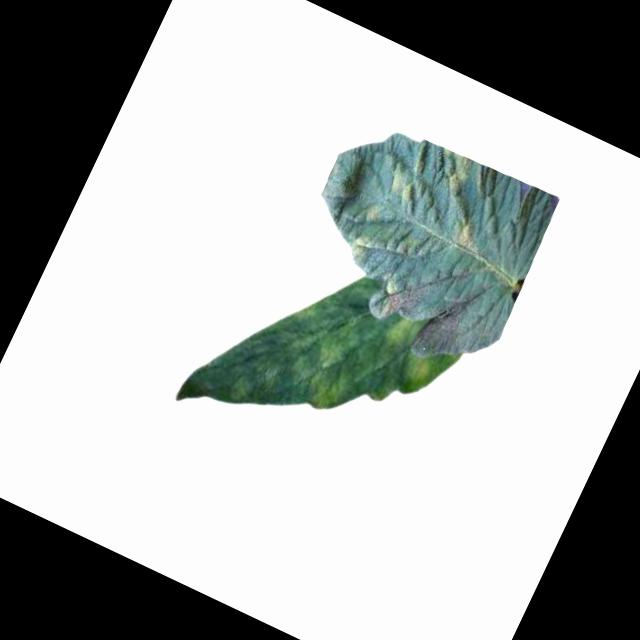Leaf_Mold: (301, 306, 361, 376), (425, 145, 479, 199), (378, 304, 427, 355), (380, 160, 426, 207), (303, 366, 347, 415), (445, 214, 485, 256), (342, 229, 382, 268), (399, 349, 437, 388), (356, 196, 390, 231)
